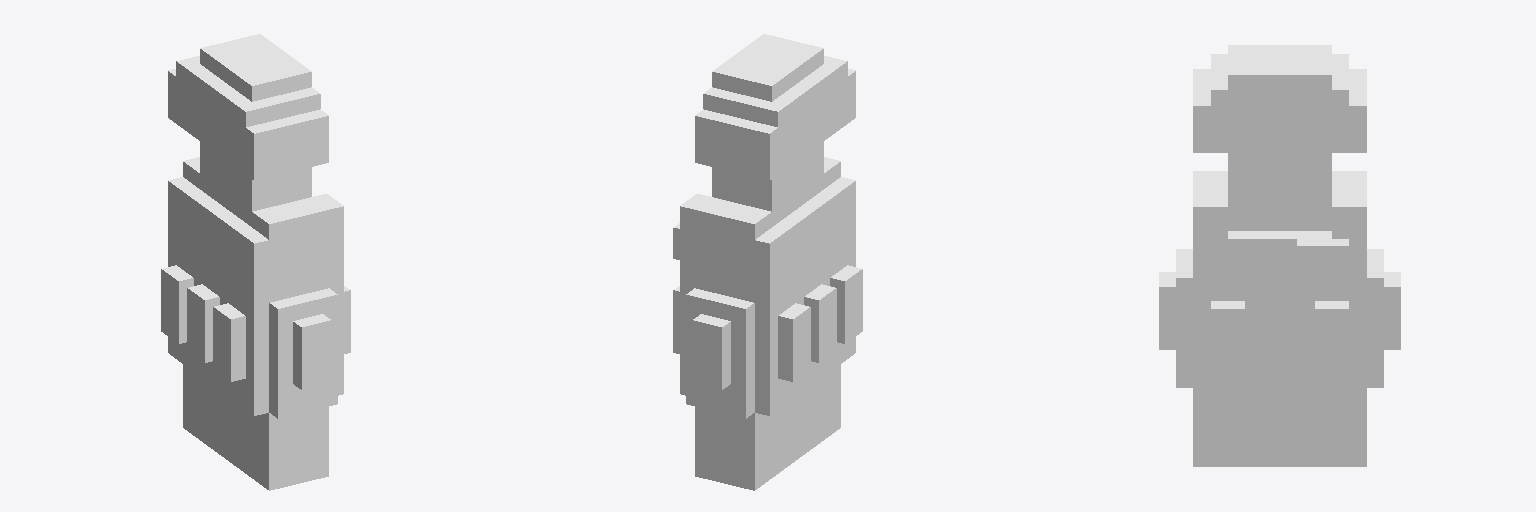
File: armyguy2body.obj
3 renders of one model, left to right at view 1: azimuth 30°, elevation 25°; view 2: azimuth 150°, elevation 25°; view 3: azimuth 270°, elevation 25°, orthographic.
Visible parts, largest first — view 1: armyguy2body; view 2: armyguy2body; view 3: armyguy2body.
Part boxes in pixels (x1,y1,x2,y2): armyguy2body: (161,34,350,490); armyguy2body: (673,34,862,490); armyguy2body: (1159,45,1400,466).
Bounding box in the file's own units: 8 × 25 × 14.